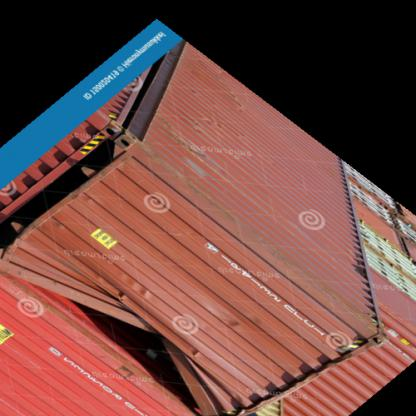Damage: (22, 264, 218, 406)
